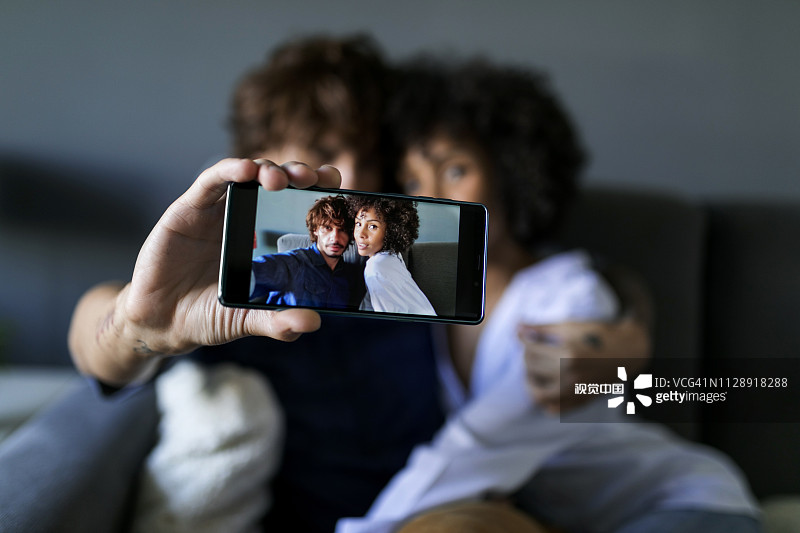taking photos: (93, 146, 457, 388)
